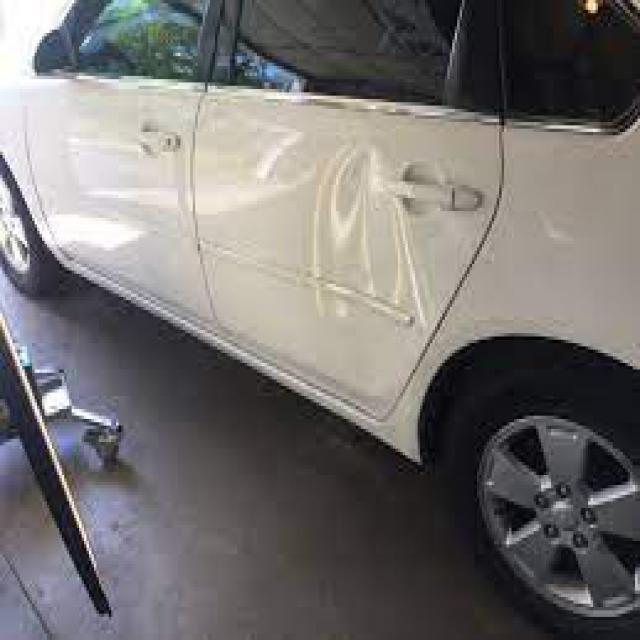doorouter-dent: (304, 119, 422, 353)
